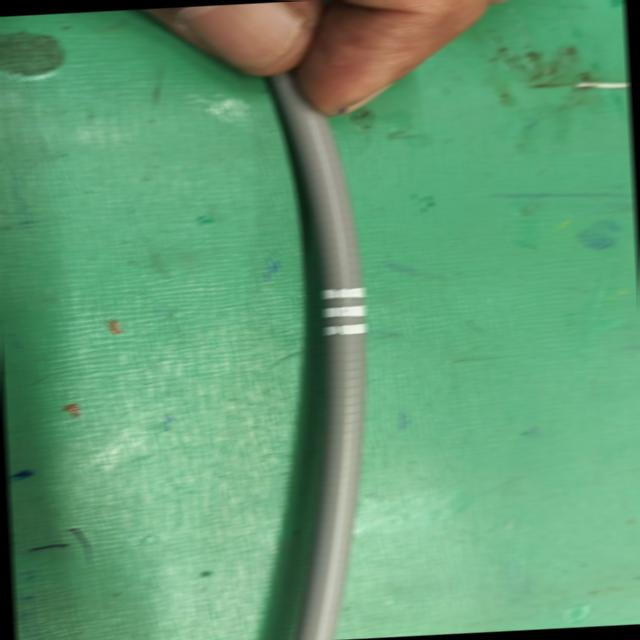white: (319, 284, 367, 337)
